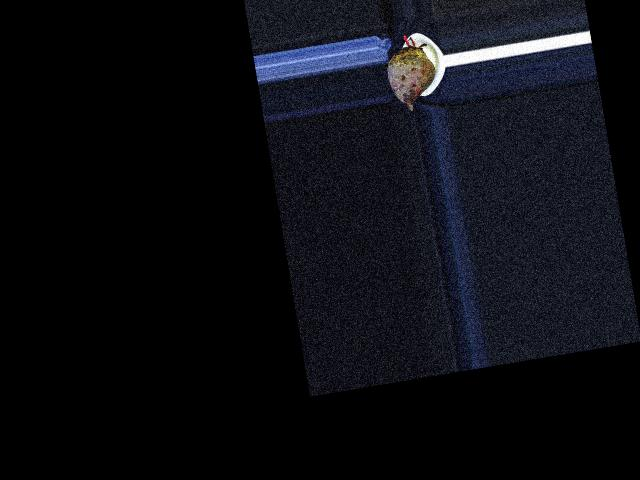beet: (382, 31, 440, 112)
